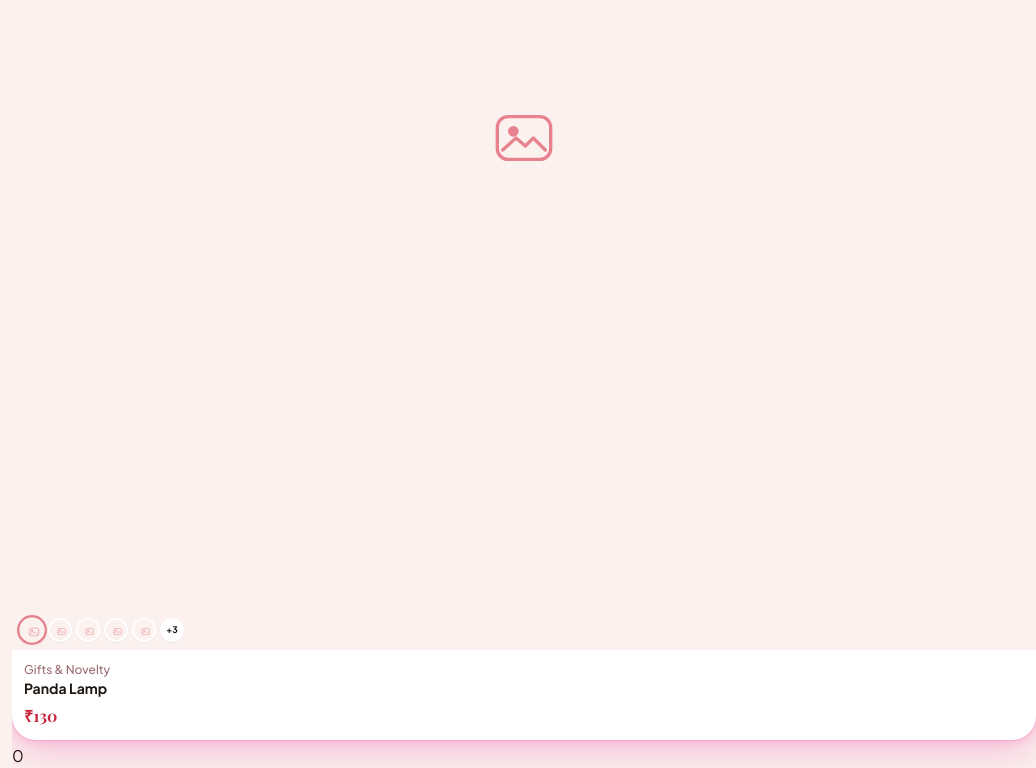
ProductCard — color swatches › "+N" overflow popover › toggles closed when the "+N" button is clicked again
(page scrolled)
Click the button named "Show 3 more colors". click: [172, 630]
box: [160,618,184,642]
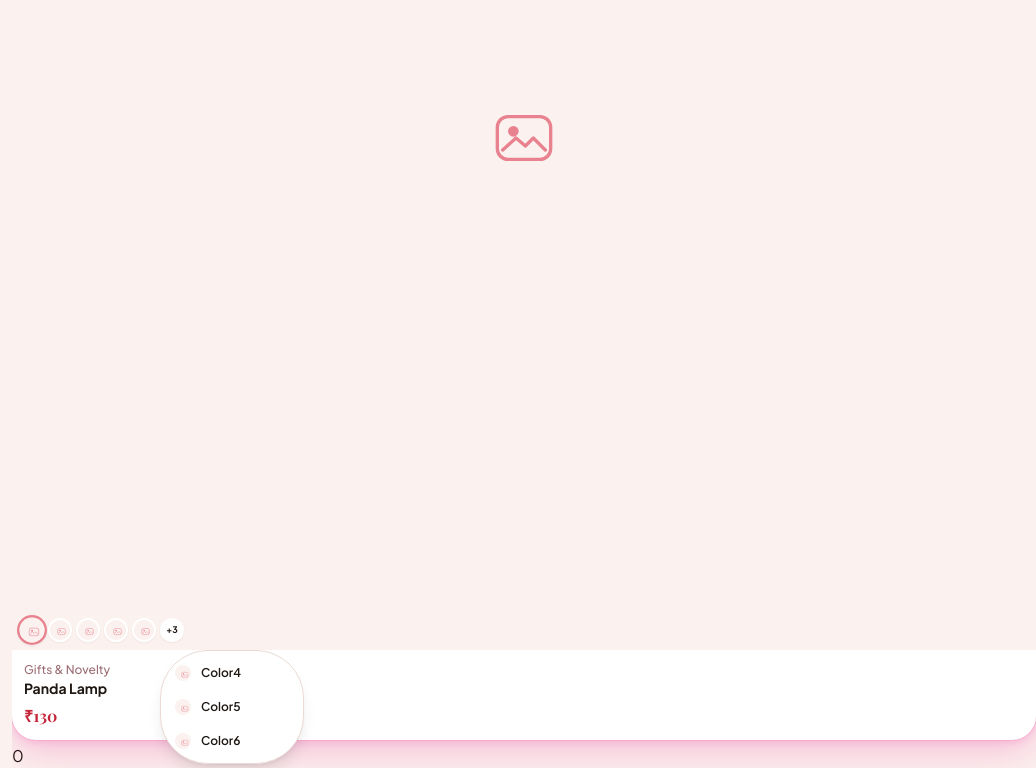
Expected: the menu is shown, [160,650,304,764]
Click the button named "Show 3 more colors". click: [172, 630]
box: [160,618,184,642]
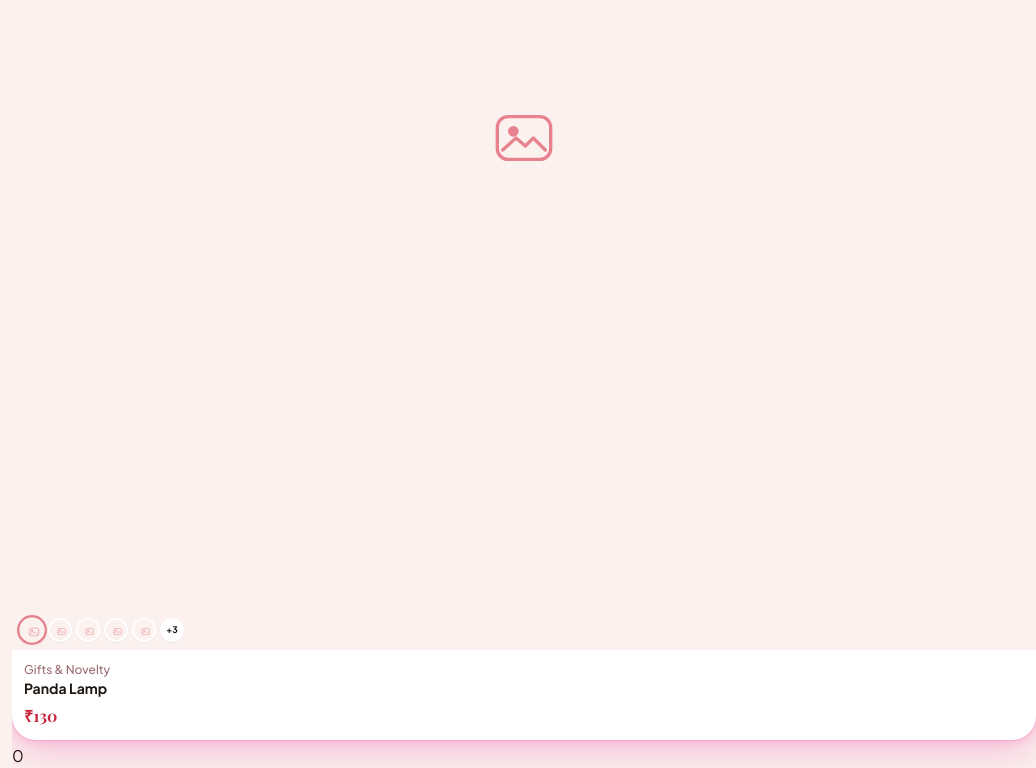
Expected: the menu is gone
